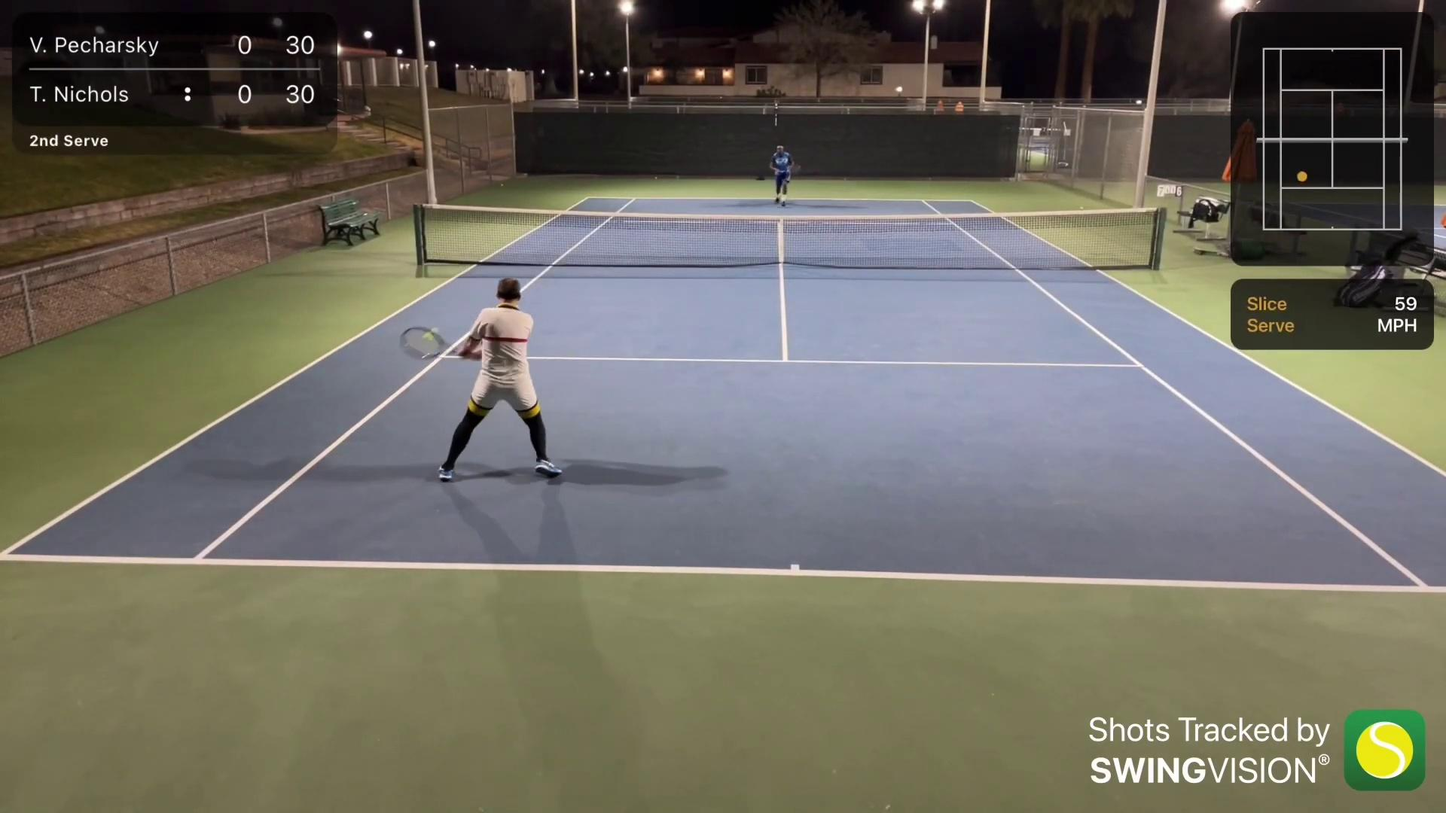ball: (423, 325, 438, 340), (651, 174, 659, 180), (499, 183, 505, 188)
